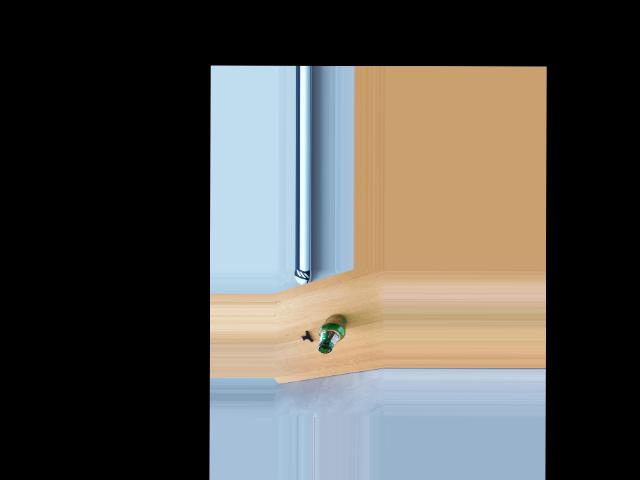beer: (317, 313, 347, 353)
